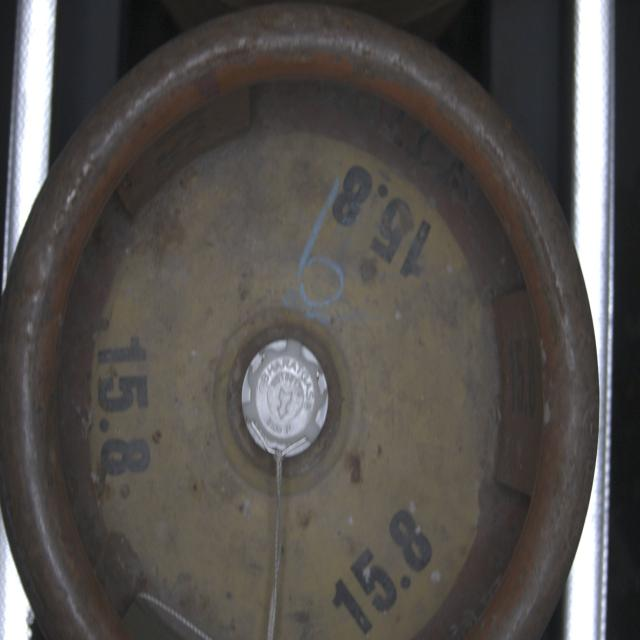Cap: (244, 337, 331, 459)
